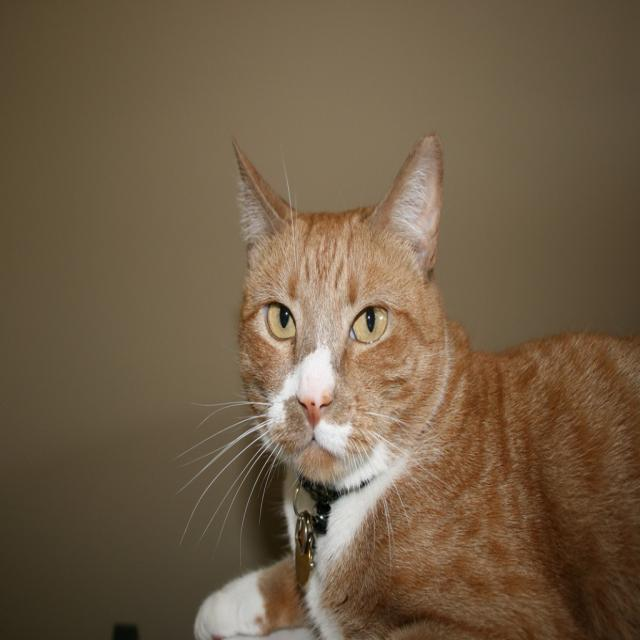Cat: (188, 118, 636, 639)
